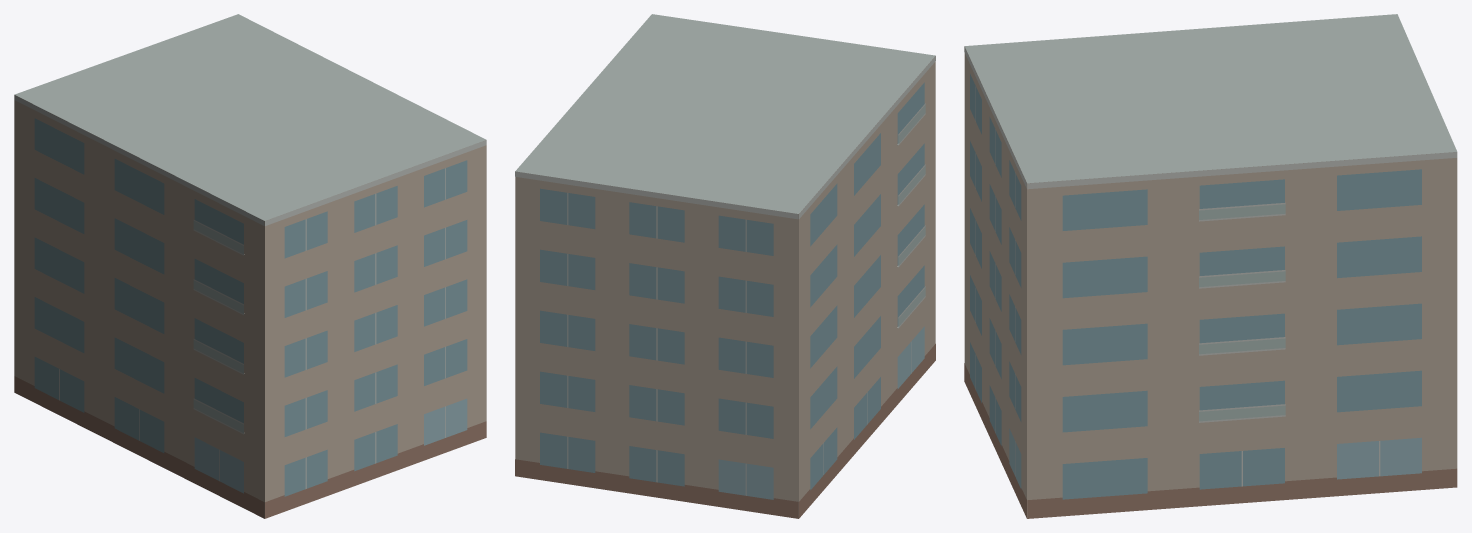
Rendered from survey-upis-32760721.glb.
3 renders of one model, left to right at view 1: azimuth 30°, elevation 25°; view 2: azimuth 150°, elevation 25°; view 3: azimuth 270°, elevation 25°, orthographic. The views are drawn at different scales.
Parts seen in each view (by area): view 1: survey-upis-32760721.tmp; view 2: survey-upis-32760721.tmp; view 3: survey-upis-32760721.tmp.
Part boxes in pixels (<box>): survey-upis-32760721.tmp: <box>14,14,486,518</box>; survey-upis-32760721.tmp: <box>515,14,935,518</box>; survey-upis-32760721.tmp: <box>964,14,1457,518</box>.
Size of the model in its own units: 14.89 by 13.75 by 18.32.
